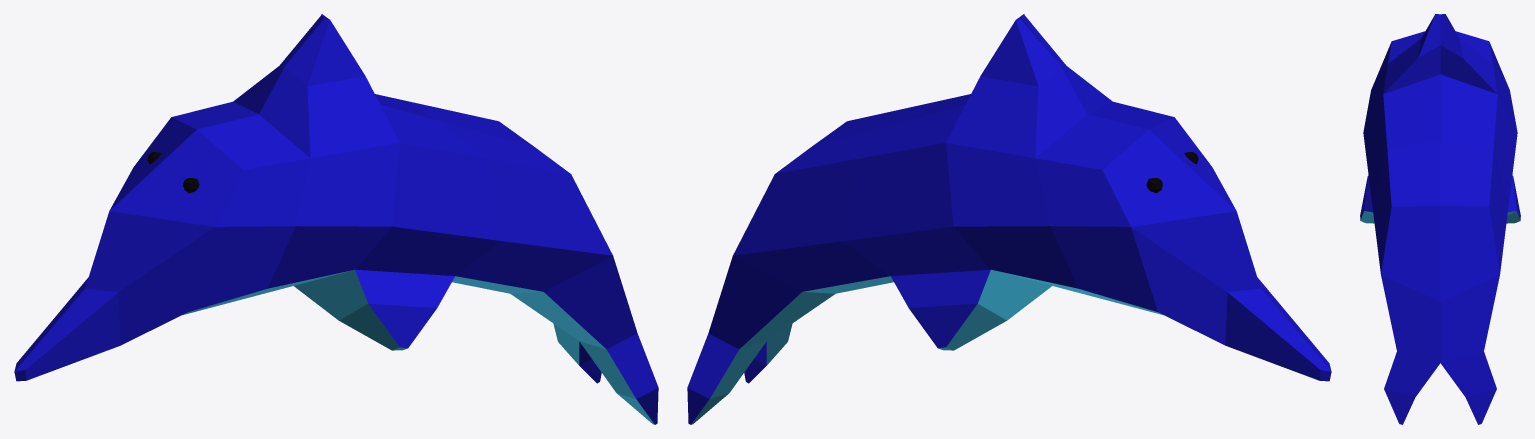
The model's file is Dolphin.obj.
3 views of the same model, side by side, from view 1: azimuth 30°, elevation 25°; view 2: azimuth 150°, elevation 25°; view 3: azimuth 270°, elevation 25° (orthographic). The views are drawn at different scales.
Parts seen in each view (by area): view 1: Dolphin; view 2: Dolphin; view 3: Dolphin.
Boxes of the visible parts, box(x1,y1,x2,y2) form: Dolphin: box(14, 14, 658, 424); Dolphin: box(687, 14, 1331, 424); Dolphin: box(1360, 14, 1520, 424).
Size of the model in its own units: 2.81 by 2.02 by 0.9425.
